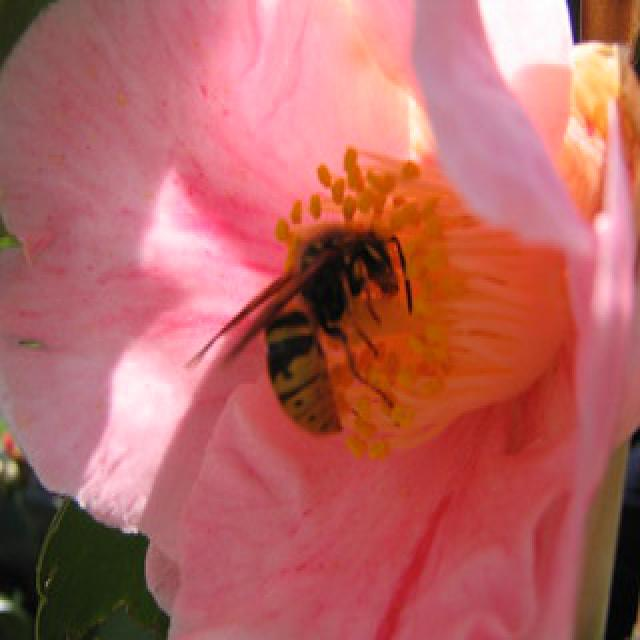Guepe: (169, 210, 449, 474)
